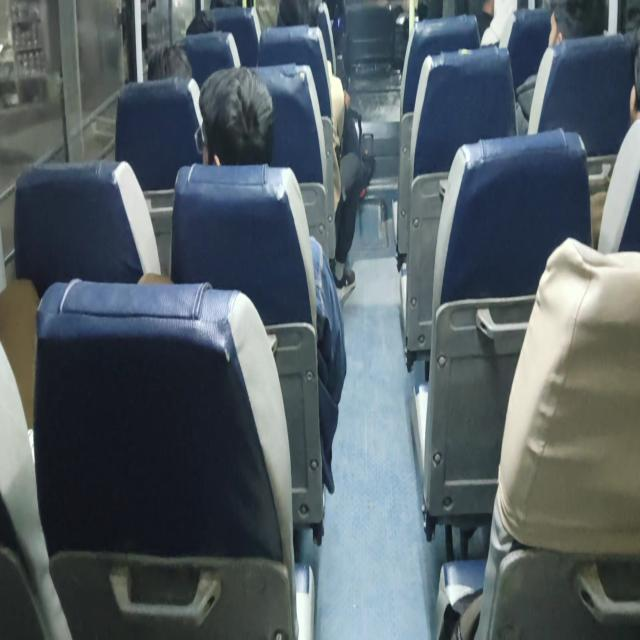person: (197, 65, 347, 494), (276, 2, 370, 297), (198, 65, 275, 166), (147, 43, 192, 81)
